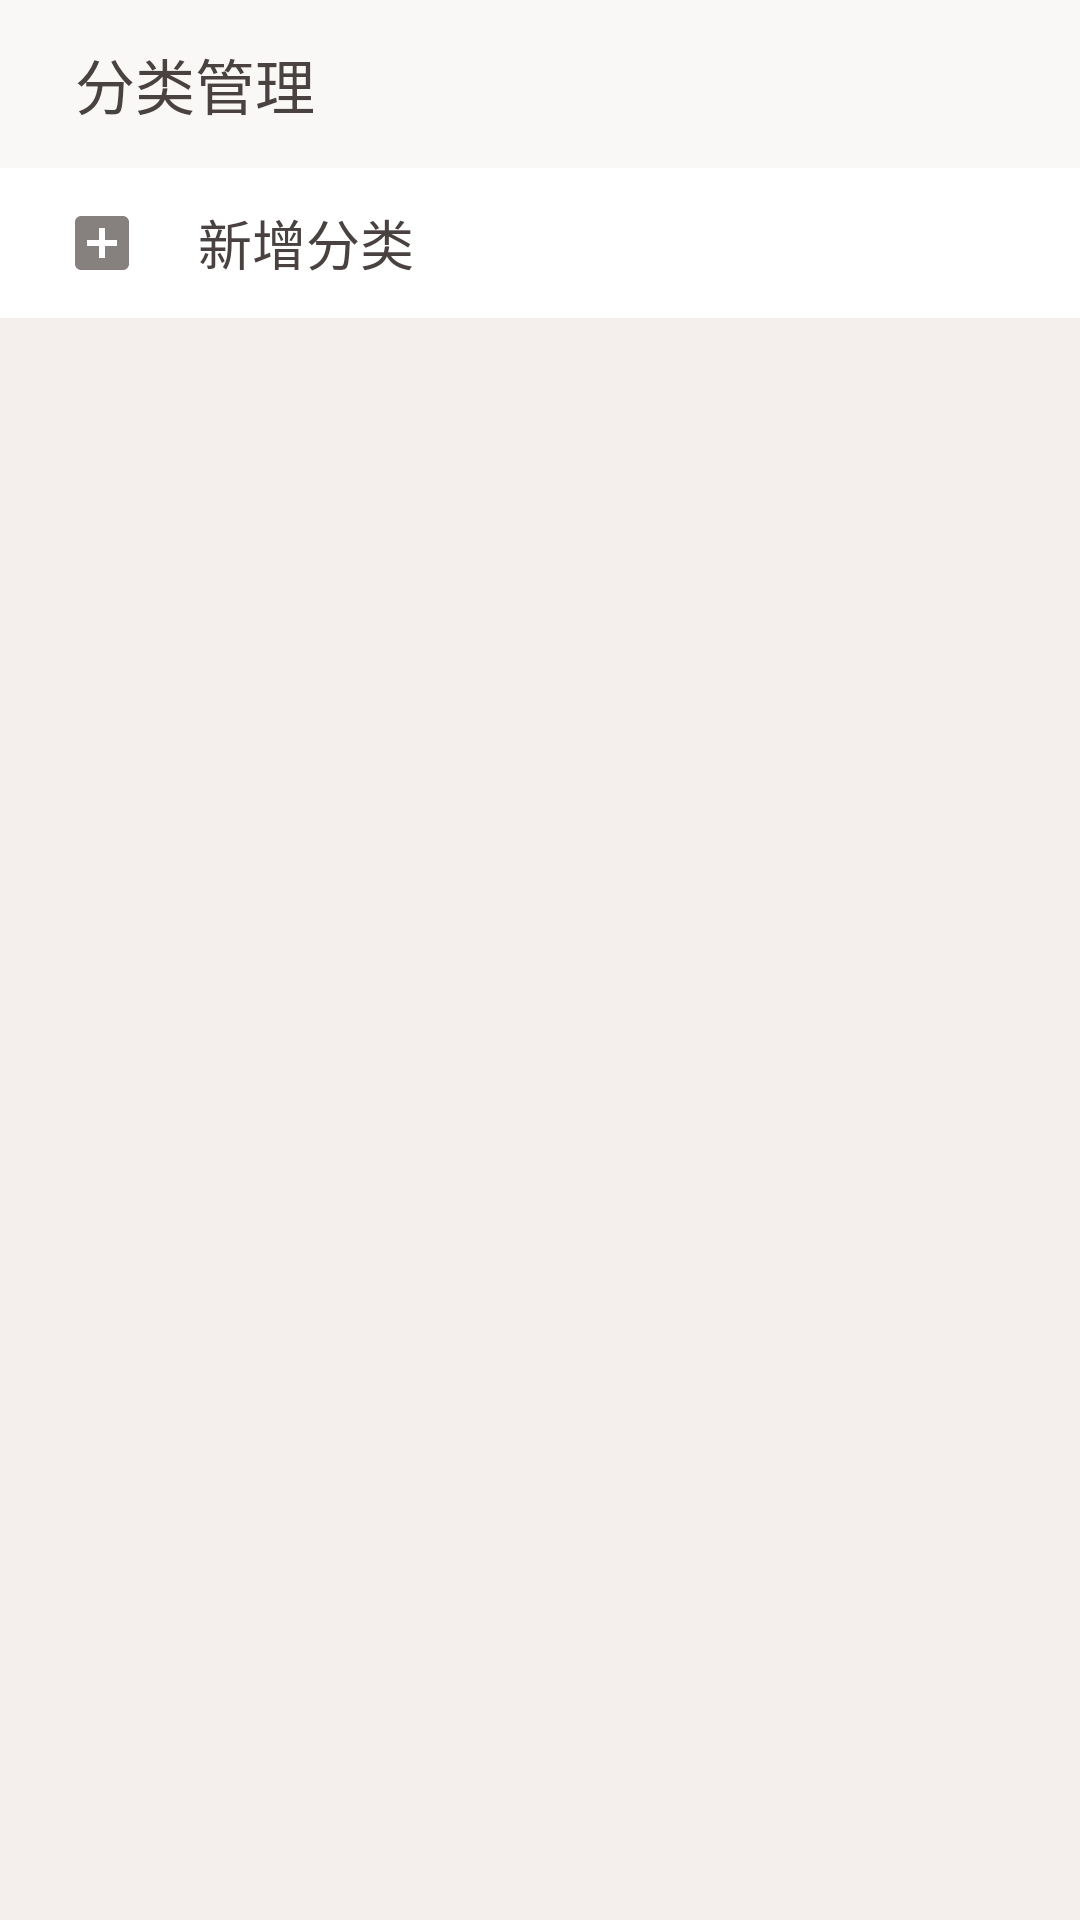

Icon bounding boxes for this 1080px x 1920px phone screenshot, format (x1, y1, x2, y2):
add class: (75, 216, 129, 270)
